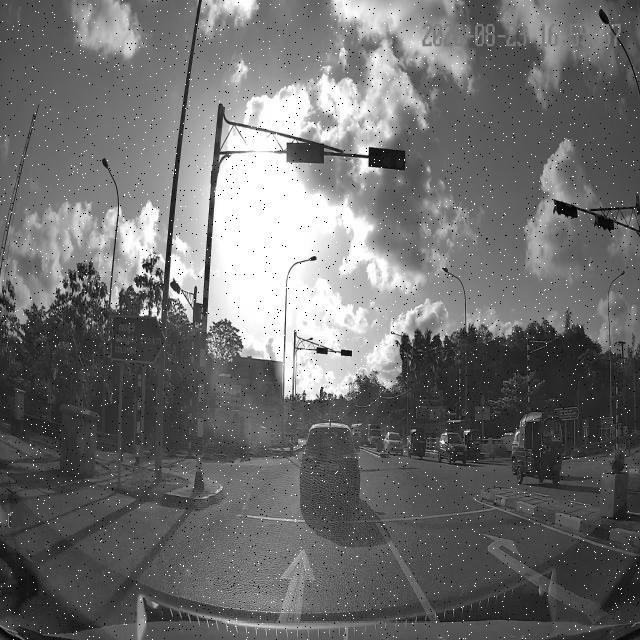forward: (179, 540, 437, 622)
